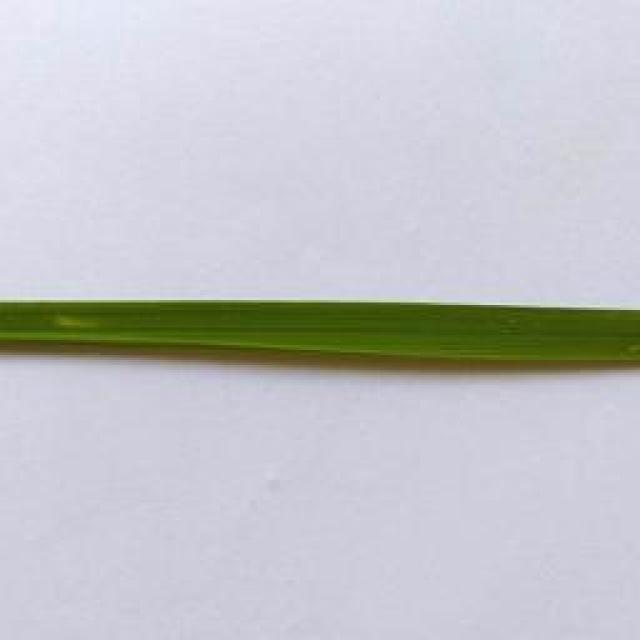Healthy-Plant: (0, 298, 640, 364)
